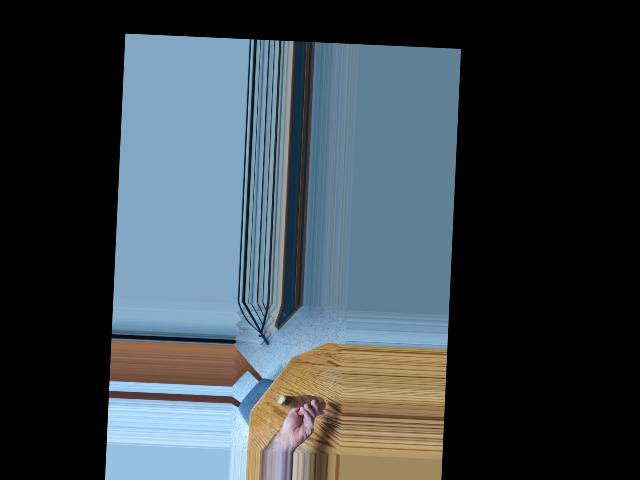sweet_potato: (276, 393, 326, 414)
